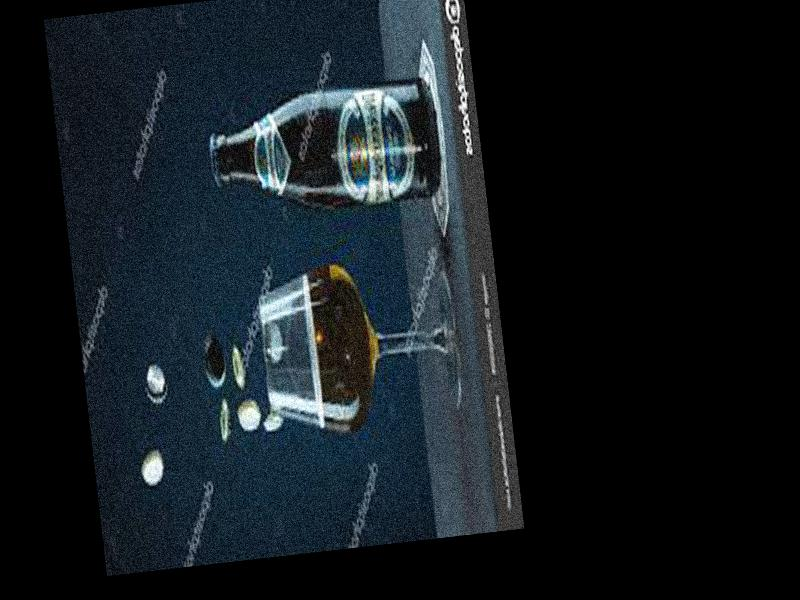Beer: (207, 80, 441, 218)
